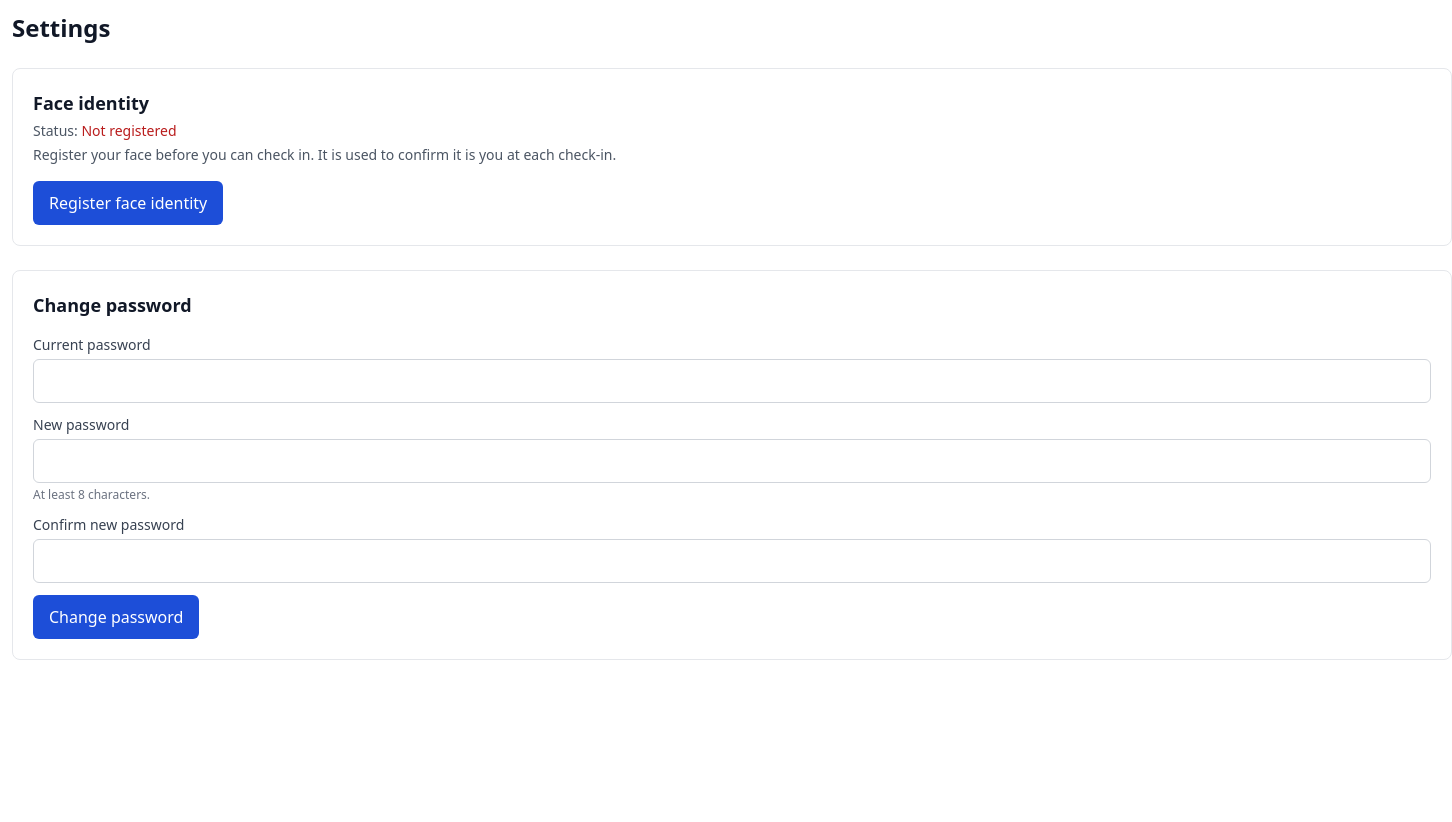
Test: Settings face identity › a denied camera records consent false and does not enroll
Click the button "Register face identity": (128, 203) [33,181,223,225]
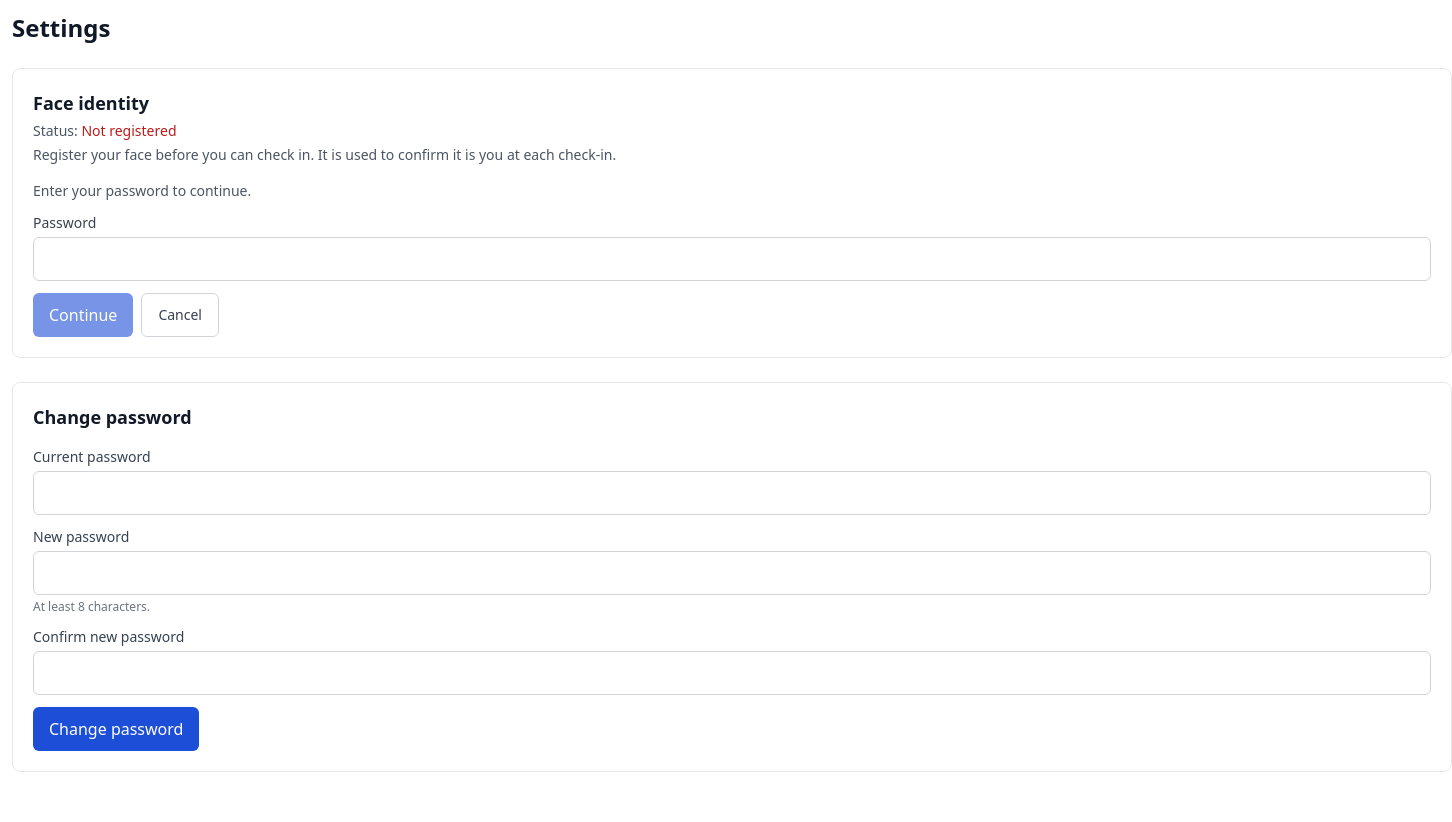
In the password field labelled "Password": (732, 259) [33,237,1431,281], type "right"
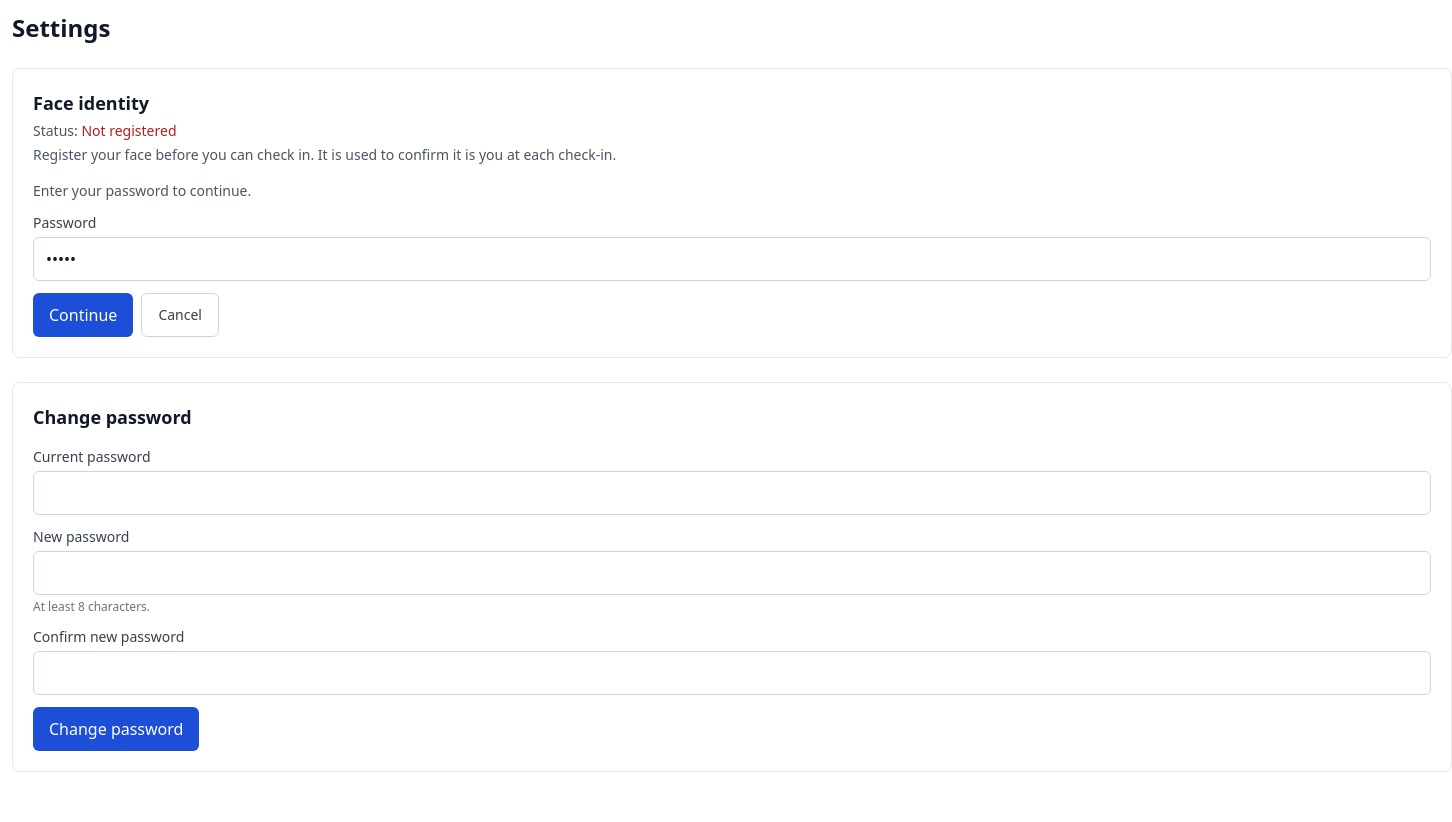
Click the button "Continue": (83, 315) [33,293,133,337]
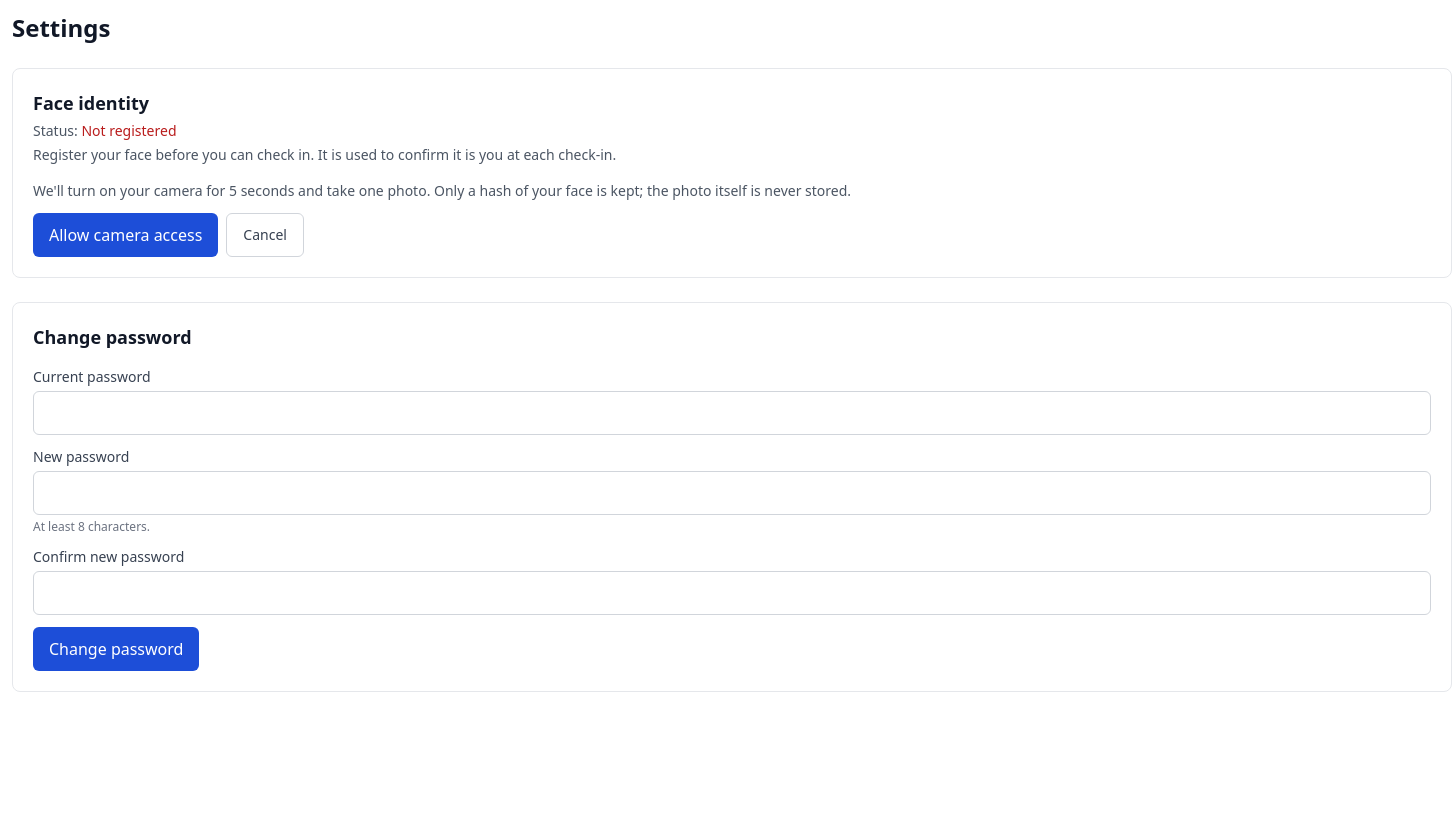
Click the button "Allow camera access": (126, 235) [33,213,218,257]
Wait 6000 ms
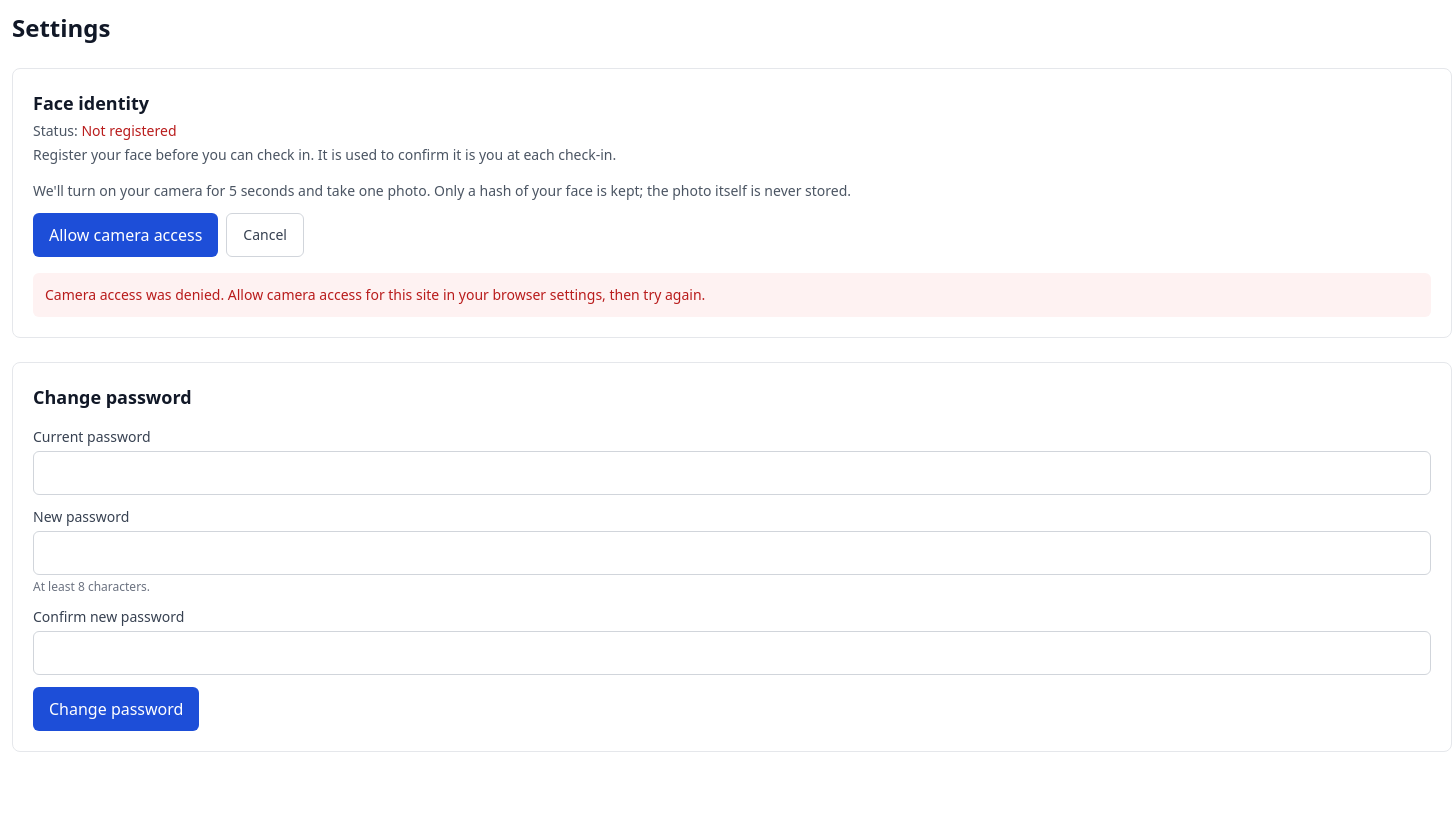
Result: the message shows "Camera access was denied" at [45,285,705,304]
